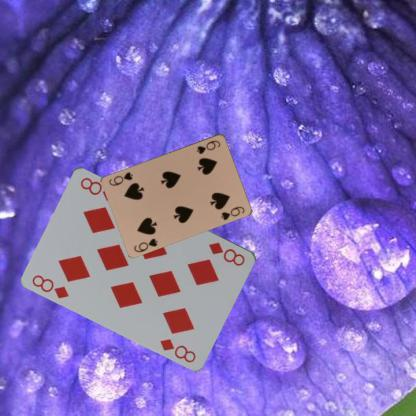6s: (194, 137, 222, 155), (131, 235, 159, 253)
8d: (206, 239, 247, 268), (30, 272, 71, 300)
